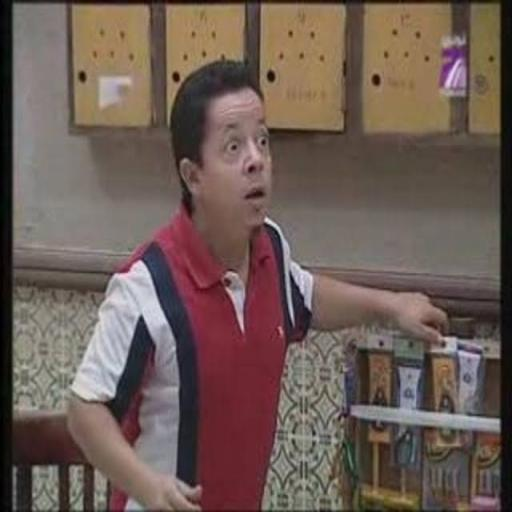fouchika: (170, 60, 270, 237)
